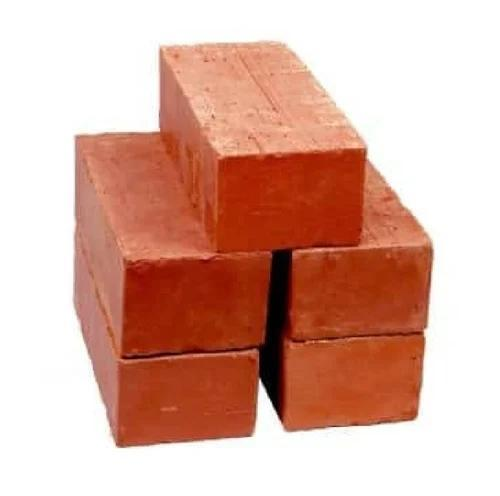brick: (218, 145, 365, 255), (123, 254, 270, 364), (116, 351, 263, 449), (292, 244, 432, 340), (286, 335, 424, 431)
